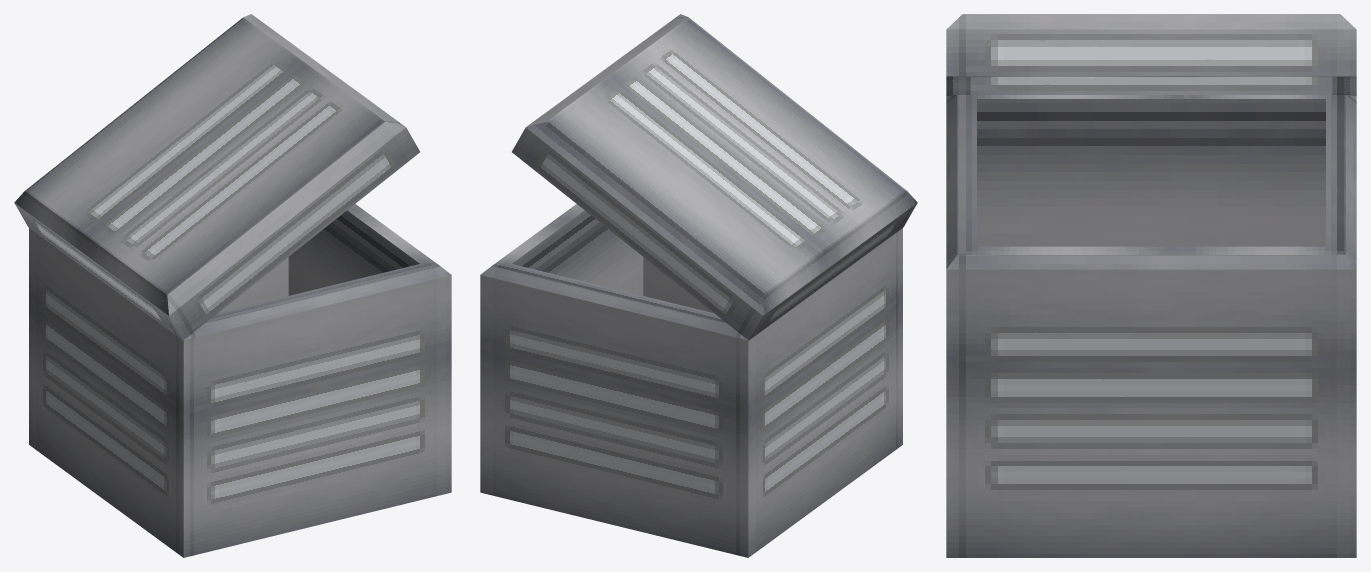
Rendered from metalbox-opened.fbx.
3 views of the same model, side by side, from view 1: azimuth 30°, elevation 25°; view 2: azimuth 150°, elevation 25°; view 3: azimuth 270°, elevation 25° (orthographic). The views are drawn at different scales.
Parts seen in each view (by area): view 1: Box; view 2: Box; view 3: Box.
Part boxes in pixels (<box>): Box: <box>14,14,451,557</box>; Box: <box>480,14,917,557</box>; Box: <box>946,14,1356,557</box>.
Bounding box in the file's own units: 129 × 122 × 166.
